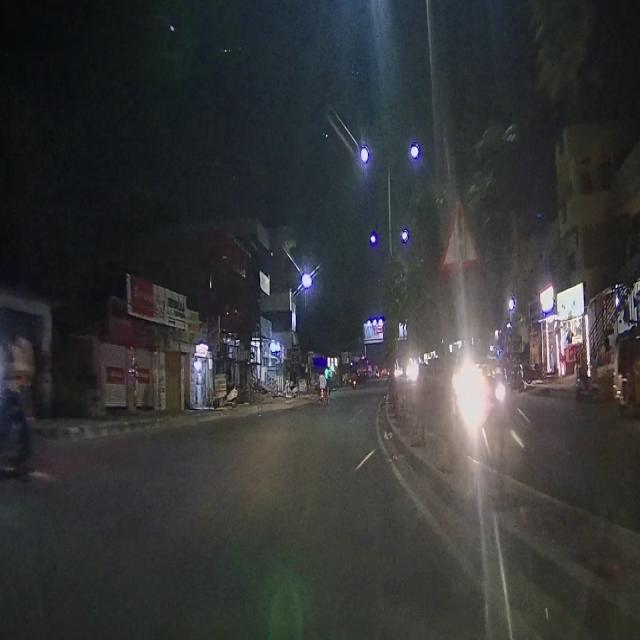gap-in-median: (437, 204, 487, 276)
